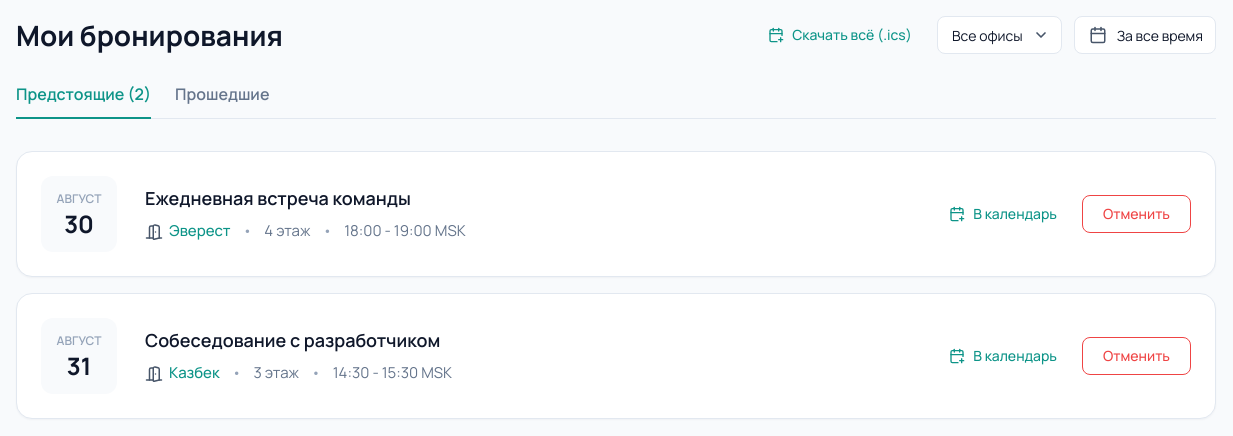
BookingsPage › вкладка «Прошедшие» переключает список и убирает кнопки отмены
Expected: the heading "Ежедневная встреча команды" is shown, [145, 186, 411, 210]
Click the tab "Прошедшие" at (222, 94), box [175, 70, 269, 118]
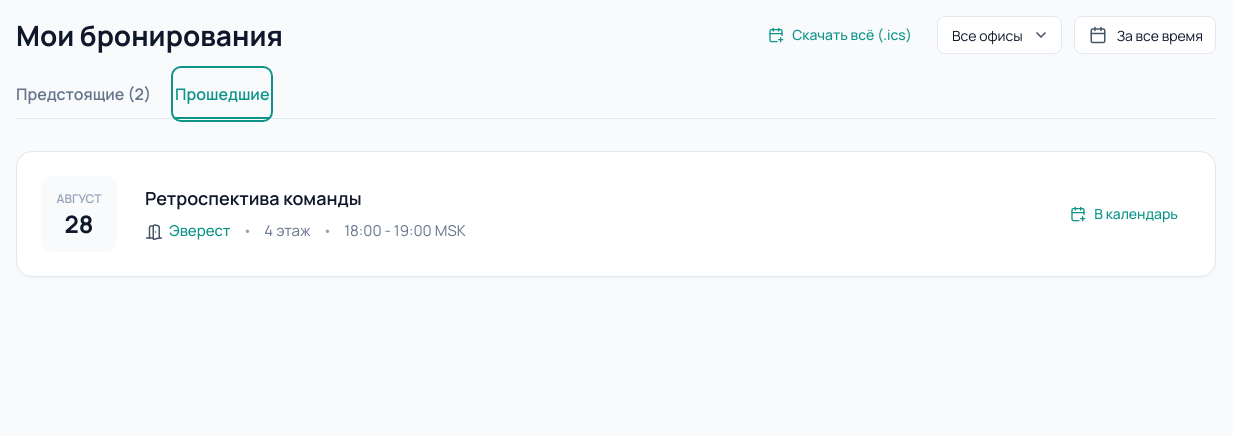
Result: the heading "Ретроспектива команды" is shown at [145, 186, 362, 210]
Result: the button "Отменить" is gone
